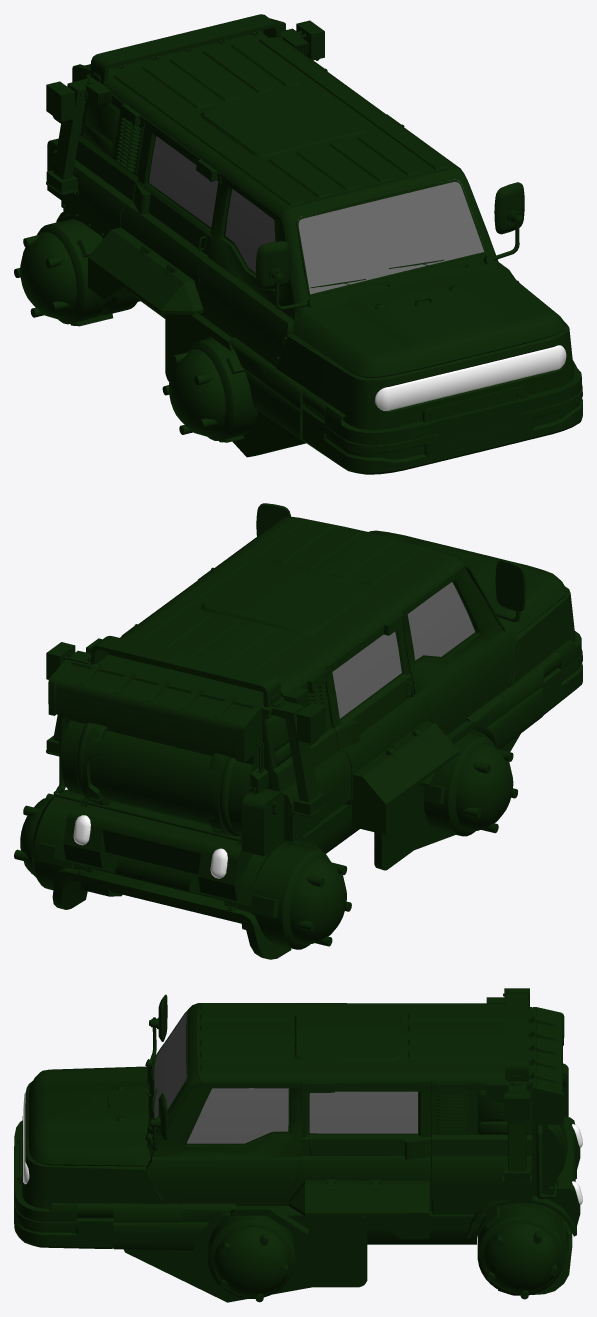
The model's file is Vehicle_HoverGP_A.FBX.
3 views of the same model, one above another, from view 1: azimuth 30°, elevation 25°; view 2: azimuth 150°, elevation 25°; view 3: azimuth 270°, elevation 25° (orthographic). The views are drawn at different scales.
Visible parts, largest first — view 1: Geometry_Vehicle_HoverGP_A_LOD00; view 2: Geometry_Vehicle_HoverGP_A_LOD00; view 3: Geometry_Vehicle_HoverGP_A_LOD00.
Part boxes in pixels (x1,y1,x2,y2): Geometry_Vehicle_HoverGP_A_LOD00: (14,14,582,474); Geometry_Vehicle_HoverGP_A_LOD00: (14,503,582,959); Geometry_Vehicle_HoverGP_A_LOD00: (14,988,582,1302).
Size of what is drawn, in the model's own units: 329 by 257 by 577.
